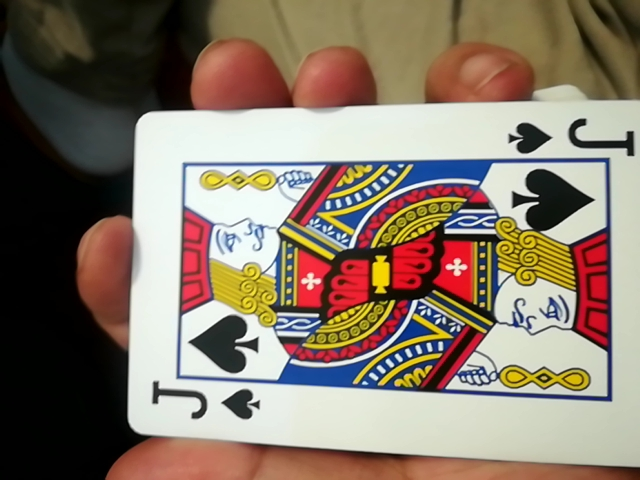ht j: (117, 103, 634, 466)
